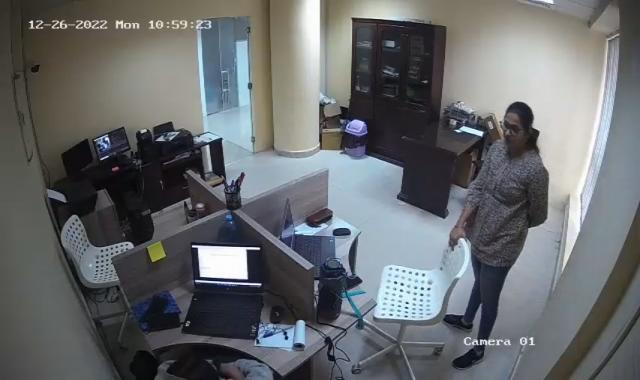no_hairnet: (498, 100, 534, 155), (166, 351, 220, 380)
